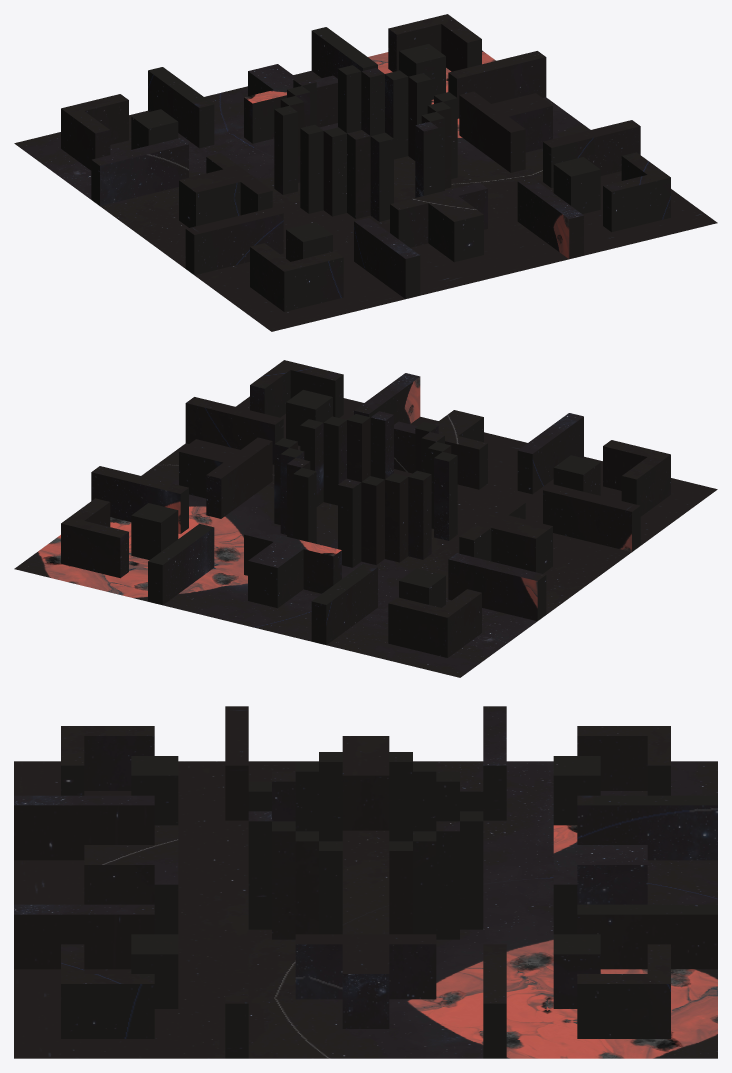
Rendered from arena_test.obj.
3 views of the same model, one above another, from view 1: azimuth 30°, elevation 25°; view 2: azimuth 150°, elevation 25°; view 3: azimuth 270°, elevation 25° (orthographic). The views are drawn at different scales.
Visible parts, largest first — view 1: Plane; view 2: Plane; view 3: Plane.
Boxes of the visible parts, x1,y1,x2,y2 form: Plane: [14, 14, 717, 331]; Plane: [14, 360, 717, 677]; Plane: [14, 706, 717, 1058].
Bounding box in the file's own units: 348 × 59.18 × 348.
